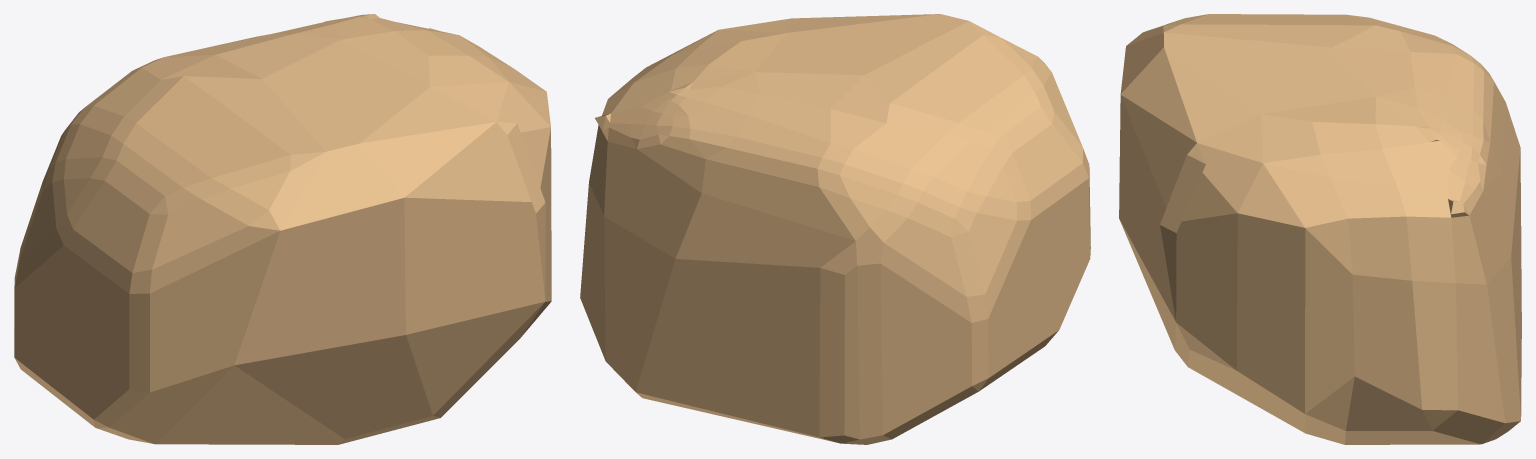
Rendered from rock.fbx.
The picture shows the model from 3 angles, left to right: view 1: azimuth 30°, elevation 25°; view 2: azimuth 150°, elevation 25°; view 3: azimuth 270°, elevation 25°; orthographic projection. The views are drawn at different scales.
Parts seen in each view (by area): view 1: Cube; view 2: Cube; view 3: Cube.
Boxes of the visible parts, x1,y1,x2,y2 form: Cube: [14, 14, 551, 444]; Cube: [580, 14, 1090, 444]; Cube: [1119, 14, 1521, 444].
Size of the model in its own units: 459 by 325 by 370.
